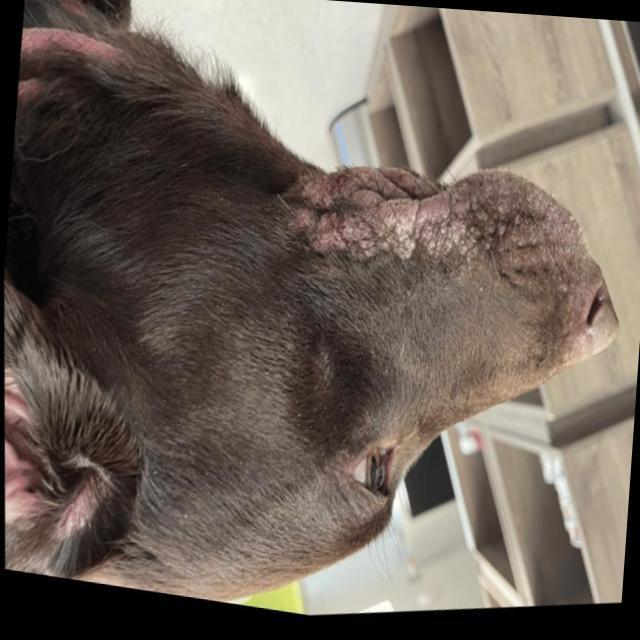mange: (304, 170, 498, 258)
